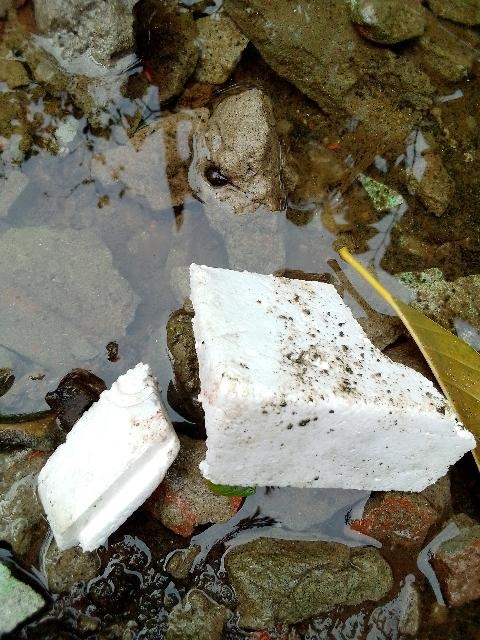cocksheet: (171, 265, 468, 497), (19, 360, 213, 556)
